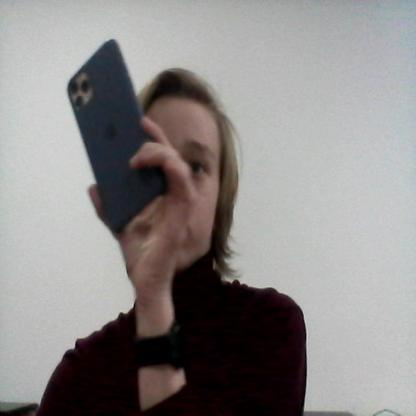phone: (59, 36, 177, 238)
